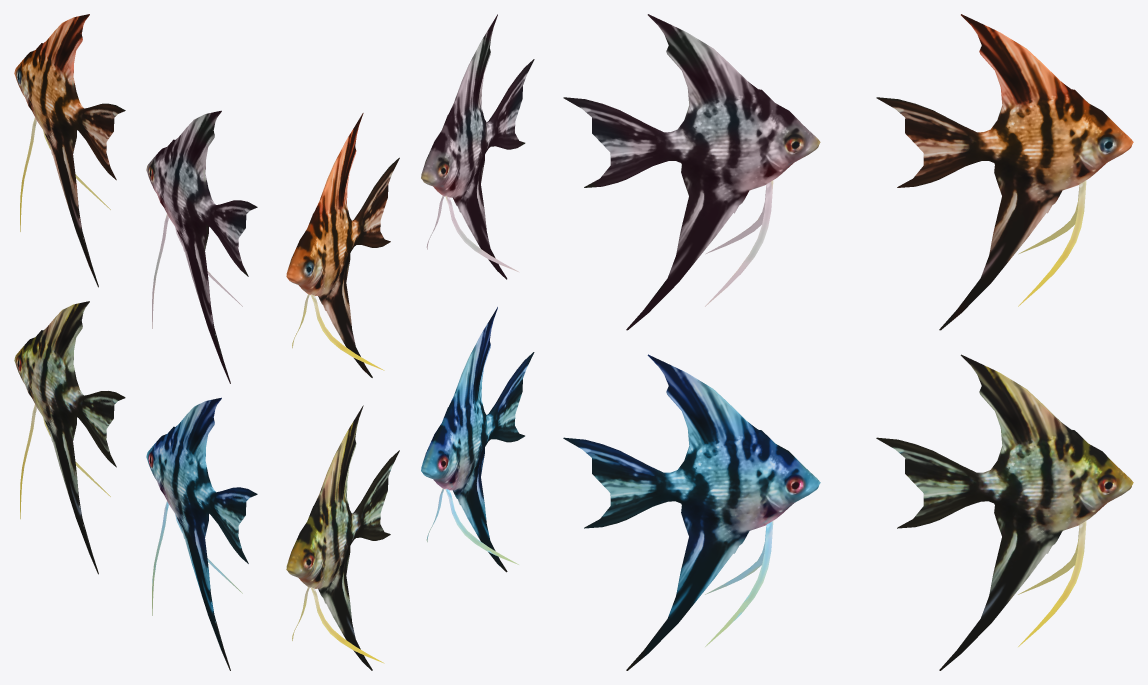
Rendered from angel_fish.glb.
The picture shows the model from 3 angles, left to right: view 1: azimuth 30°, elevation 25°; view 2: azimuth 150°, elevation 25°; view 3: azimuth 270°, elevation 25°; orthographic projection. The views are drawn at different scales.
Parts seen in each view (by area): view 1: pCube4, pCube3, pCube6, pCube5; view 2: pCube4, pCube3, pCube5, pCube6; view 3: pCube3, pCube5, pCube6, pCube4.
Boxes of the visible parts, x1,y1,x2,y2 form: pCube4: (14, 14, 125, 287); pCube3: (14, 301, 125, 574); pCube6: (146, 110, 257, 383); pCube5: (146, 397, 257, 670); pCube4: (286, 113, 399, 377); pCube3: (286, 405, 399, 670); pCube5: (421, 307, 534, 572); pCube6: (421, 14, 534, 279); pCube3: (876, 354, 1133, 670); pCube5: (563, 354, 820, 670); pCube6: (563, 14, 820, 330); pCube4: (876, 14, 1133, 330).
Size of the model in its own units: 1.99 by 11.58 by 9.11.
4 materials, 4 textured.
